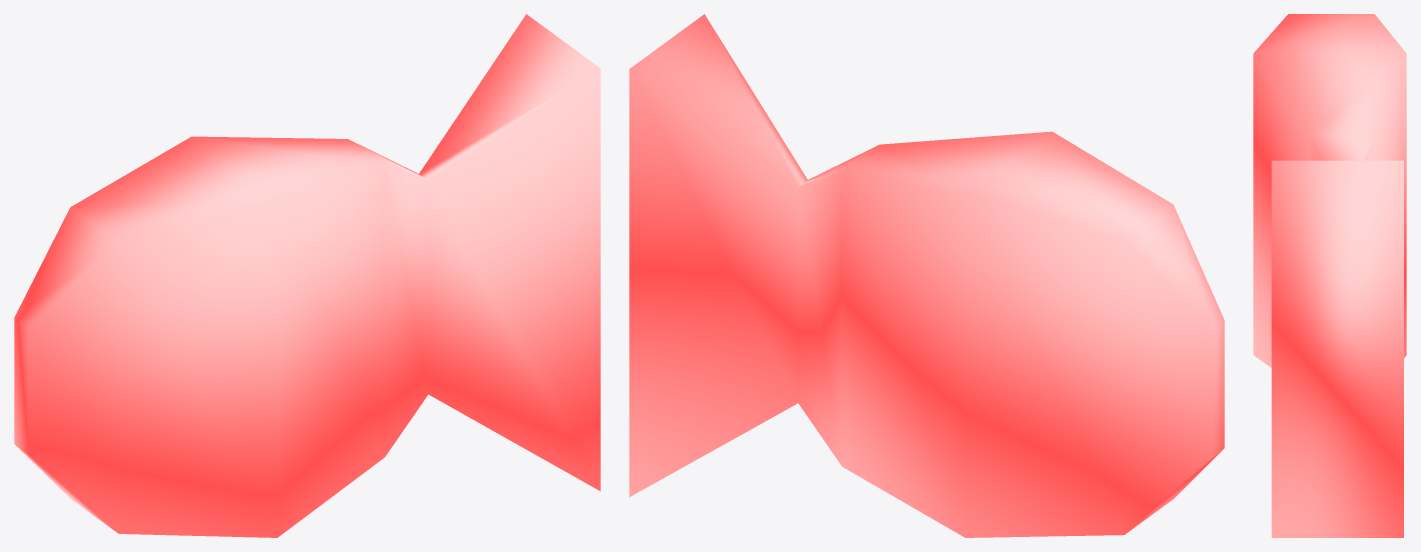
Rendered from Fish.fbx.
3 renders of one model, left to right at view 1: azimuth 30°, elevation 25°; view 2: azimuth 150°, elevation 25°; view 3: azimuth 270°, elevation 25°, orthographic. The views are drawn at different scales.
Visible parts, largest first — view 1: Cube; view 2: Cube; view 3: Cube.
Boxes of the visible parts, <box> form: Cube: <box>14,14,600,537</box>; Cube: <box>629,14,1224,537</box>; Cube: <box>1253,14,1406,537</box>.
Bounding box in the file's own units: 32.46 × 118 × 88.2.
